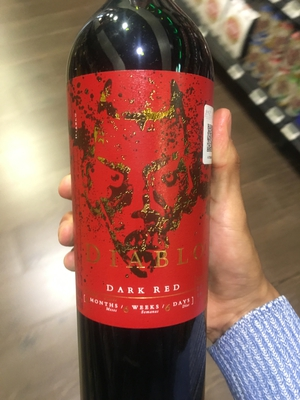diablo dark red: (63, 18, 217, 390)
